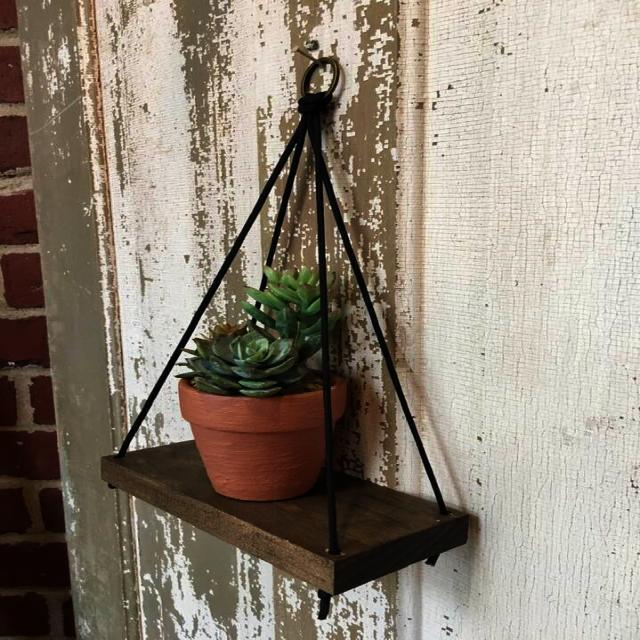wall_stain: (92, 0, 408, 640)
